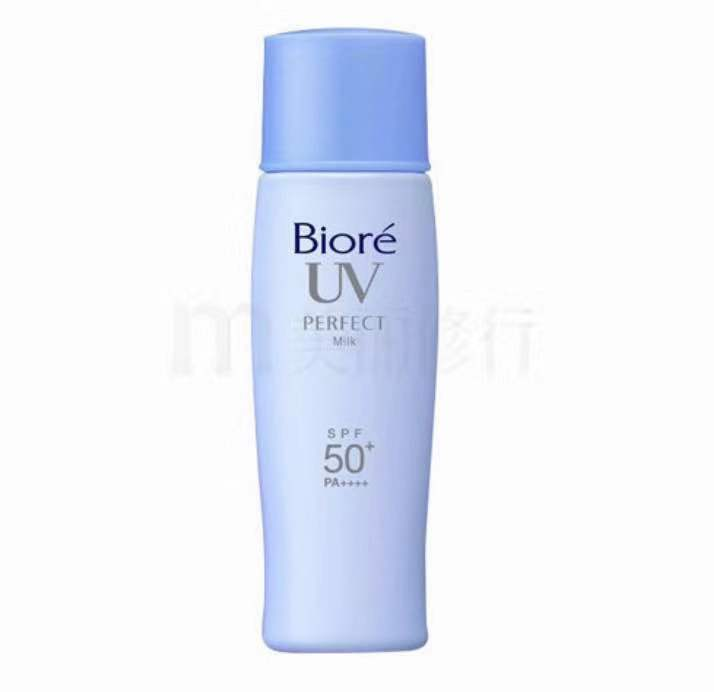cosmetic: (246, 31, 450, 650)
